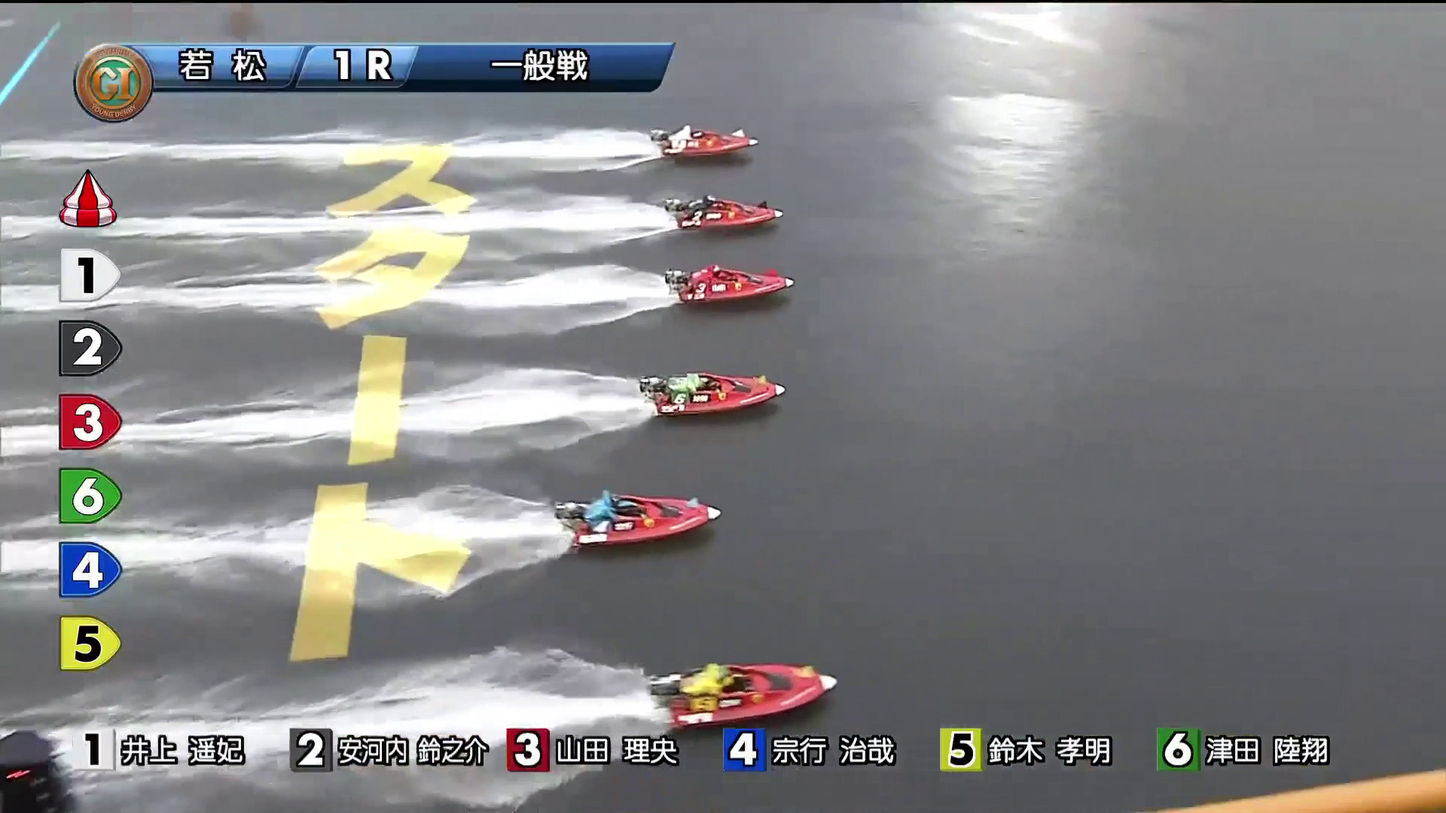１号艇: (679, 115, 742, 160)
２号艇: (674, 193, 777, 231)
３号艇: (677, 262, 802, 303)
４号艇: (673, 360, 778, 403)
５号艇: (582, 489, 703, 544)
６号艇: (659, 654, 817, 711)
